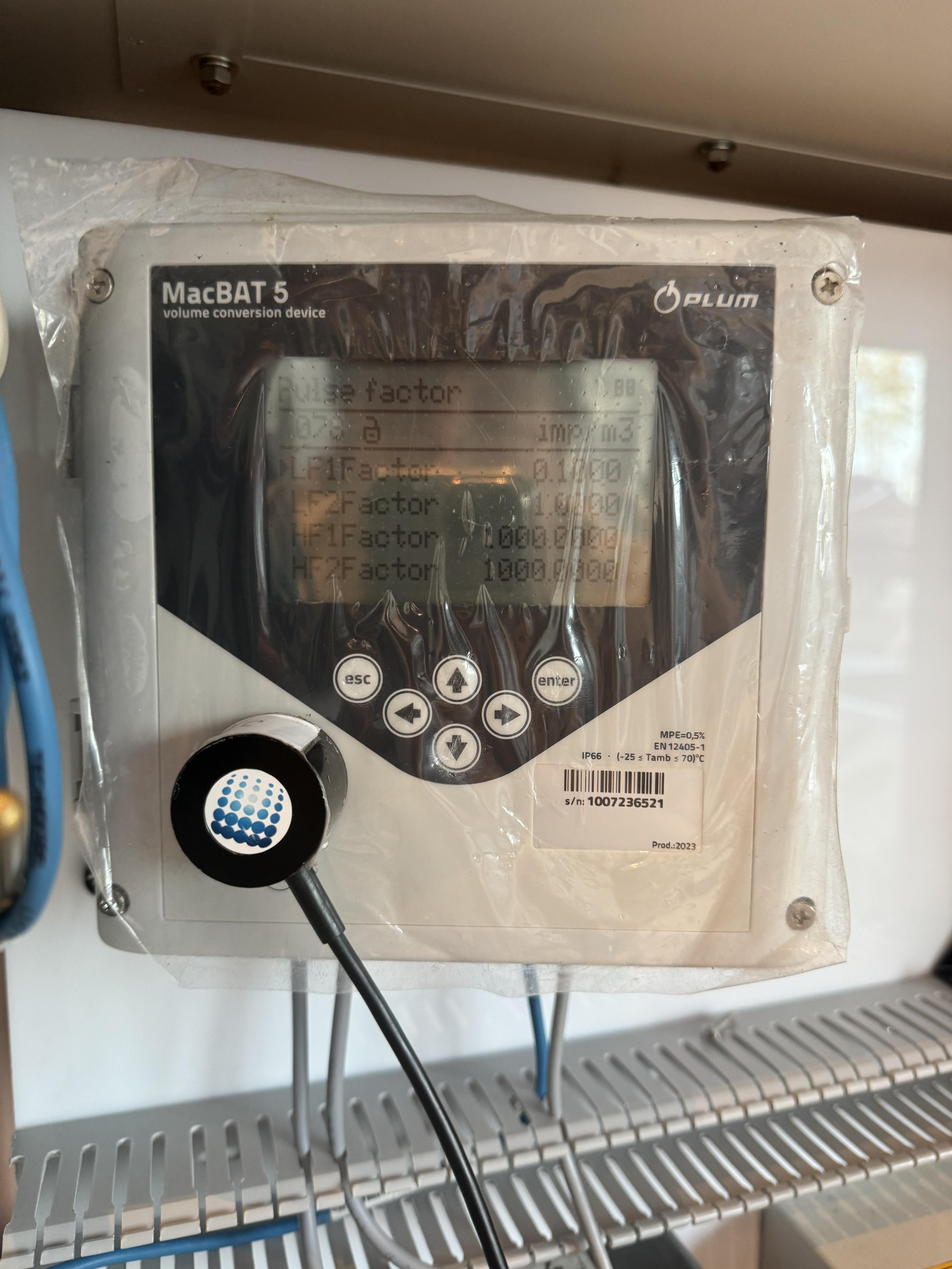digital_screen: (264, 355, 658, 605)
